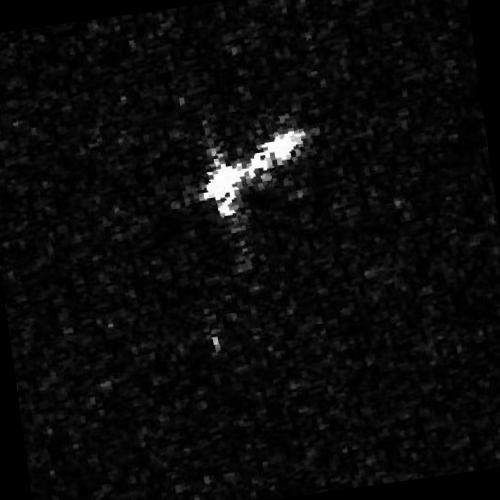ship: (198, 125, 311, 205)
